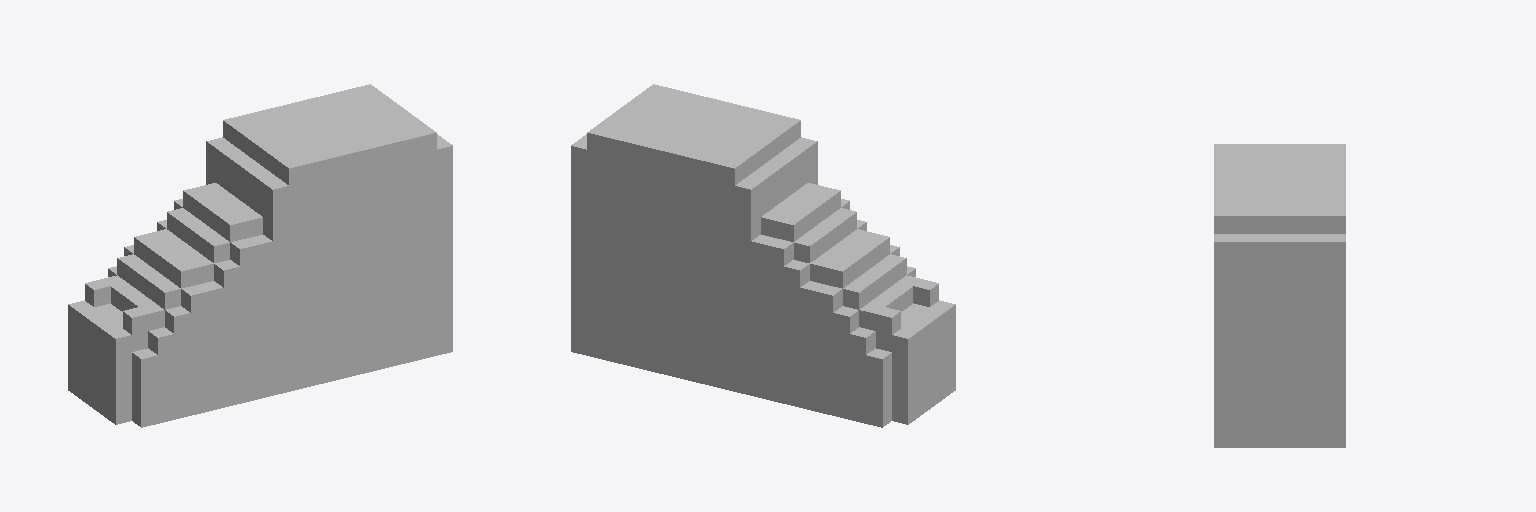
The model's file is shoes.obj.
The picture shows the model from 3 angles: view 1: azimuth 30°, elevation 25°; view 2: azimuth 150°, elevation 25°; view 3: azimuth 270°, elevation 25°; orthographic projection.
Visible parts, largest first — view 1: object 1; view 2: object 1; view 3: object 1.
Part boxes in pixels (x1,y1,x2,y2): object 1: (68,84,452,427); object 1: (571,84,955,427); object 1: (1214,144,1345,447).
Size of the model in its own units: 2 by 1.3 by 0.7.